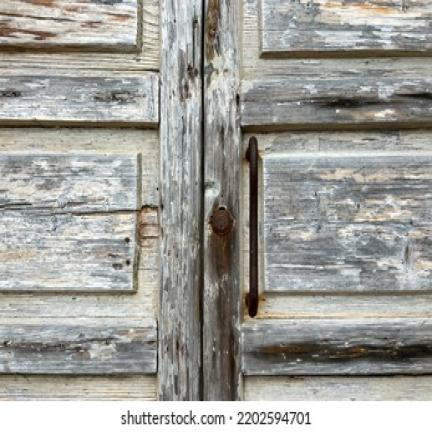karat: (246, 135, 261, 323)
